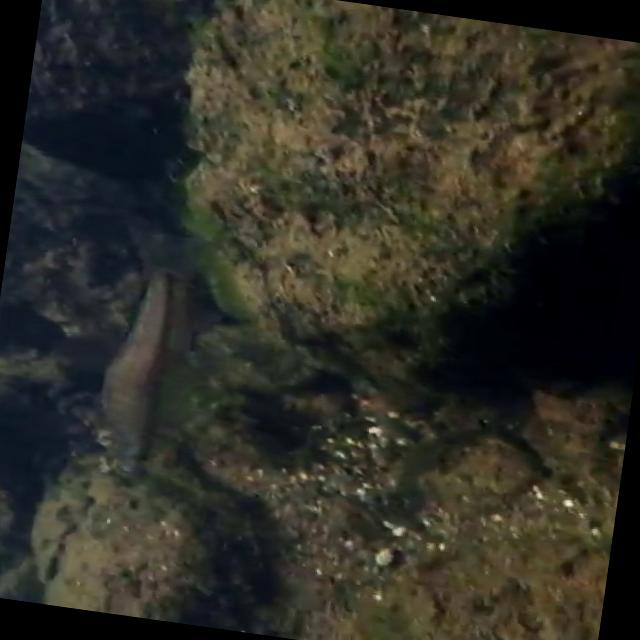Cakil Baligi: (61, 245, 208, 492)
